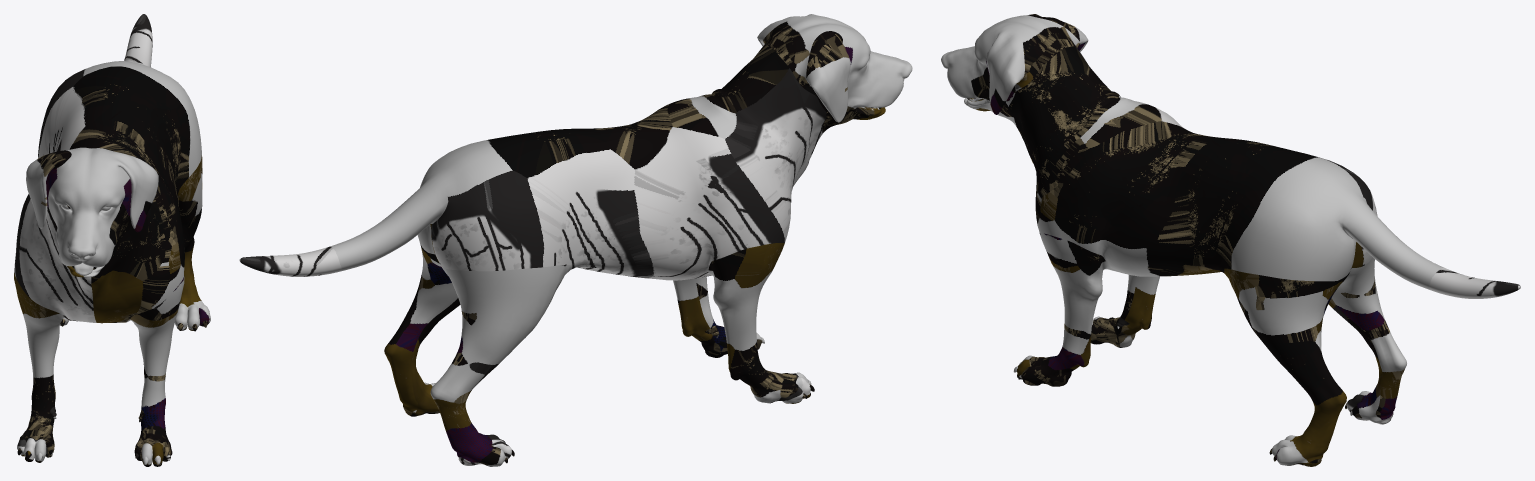
The model's file is dog.gltf.
3 renders of one model, left to right at view 1: azimuth 30°, elevation 25°; view 2: azimuth 150°, elevation 25°; view 3: azimuth 270°, elevation 25°, orthographic. The views are drawn at different scales.
Parts seen in each view (by area): view 1: mesh_0; view 2: mesh_0; view 3: mesh_0.
Boxes of the visible parts, x1,y1,x2,y2 form: mesh_0: (14,14,210,466); mesh_0: (239,14,912,466); mesh_0: (941,14,1520,466).
Bounding box in the file's own units: 0.6393 × 0.5577 × 0.8988.
